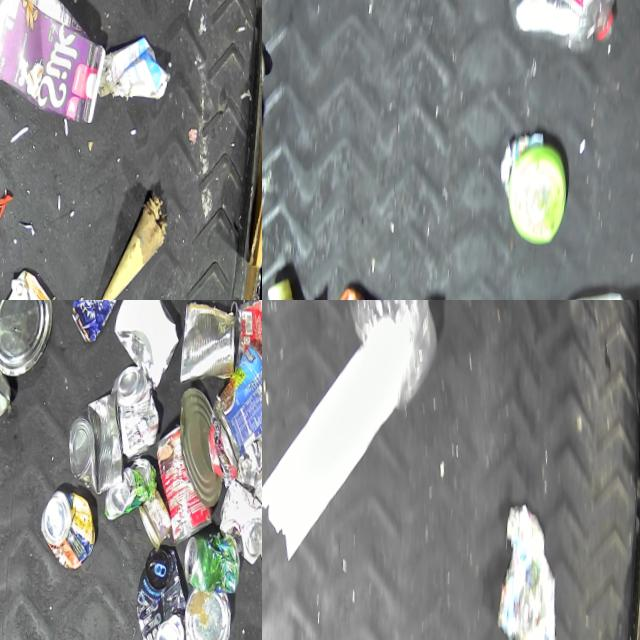can: (149, 419, 219, 543), (64, 383, 129, 494), (207, 335, 262, 461), (173, 384, 227, 504), (130, 543, 190, 640), (107, 361, 162, 457), (178, 300, 239, 385), (37, 486, 98, 569), (0, 300, 54, 379), (214, 474, 262, 562), (180, 526, 240, 593), (103, 451, 156, 521), (179, 585, 233, 640), (68, 300, 125, 345), (134, 485, 172, 546), (232, 300, 262, 376), (0, 353, 13, 420)
milk_jug: (526, 277, 640, 300)
non_white_jug: (0, 0, 108, 121), (0, 261, 57, 300)
plastic_bottle: (503, 0, 624, 52)
